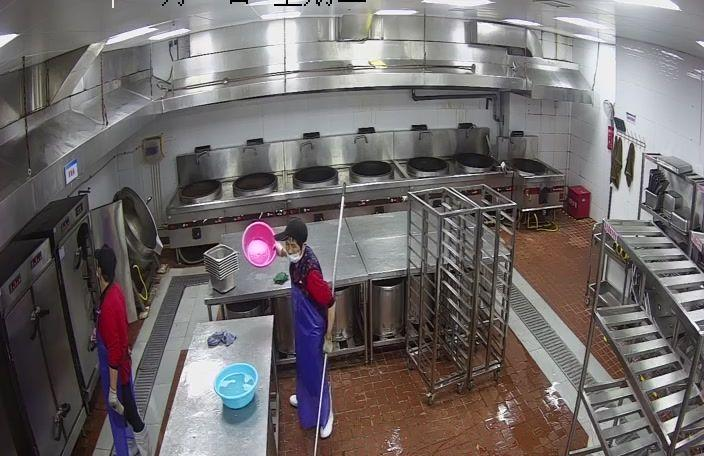mask: (282, 242, 304, 261)
